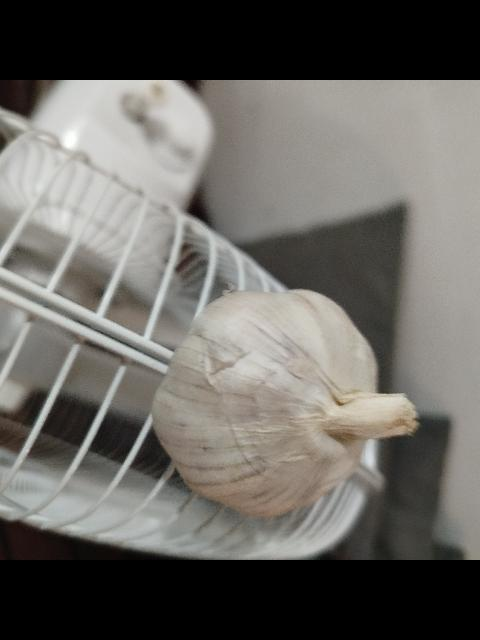garlic: (150, 288, 418, 518)
